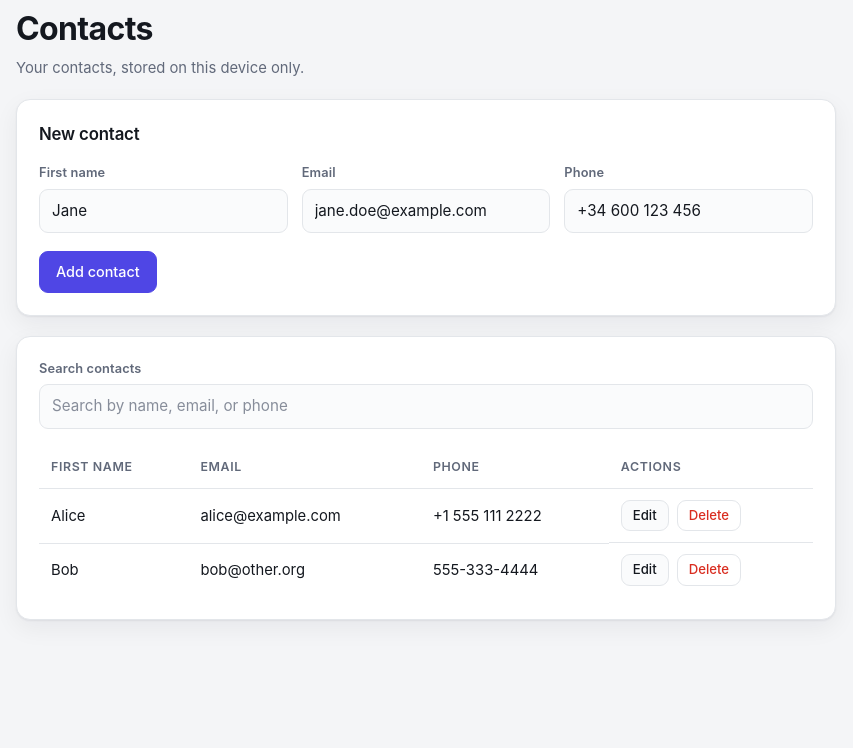
editing a contact › allows saving an edit that leaves the email unchanged
Click the button "Edit" in the row of "alice@example.com" at x=645, y=515, box [621,500,669,531]
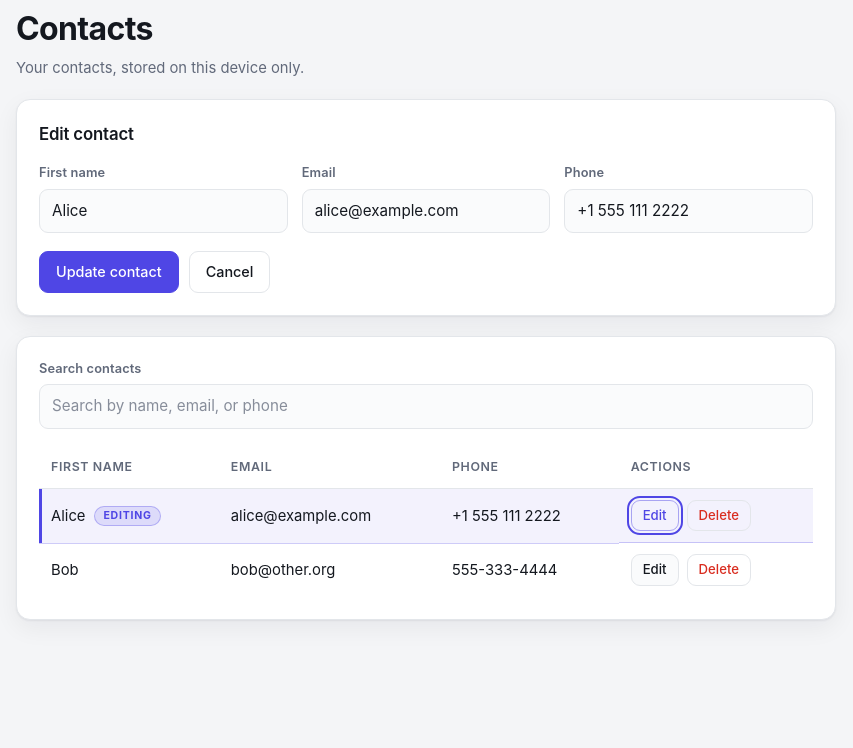
Replace the text in the field labelled "First name" with "Alicia" at x=163, y=211, box [39,189,288,233]
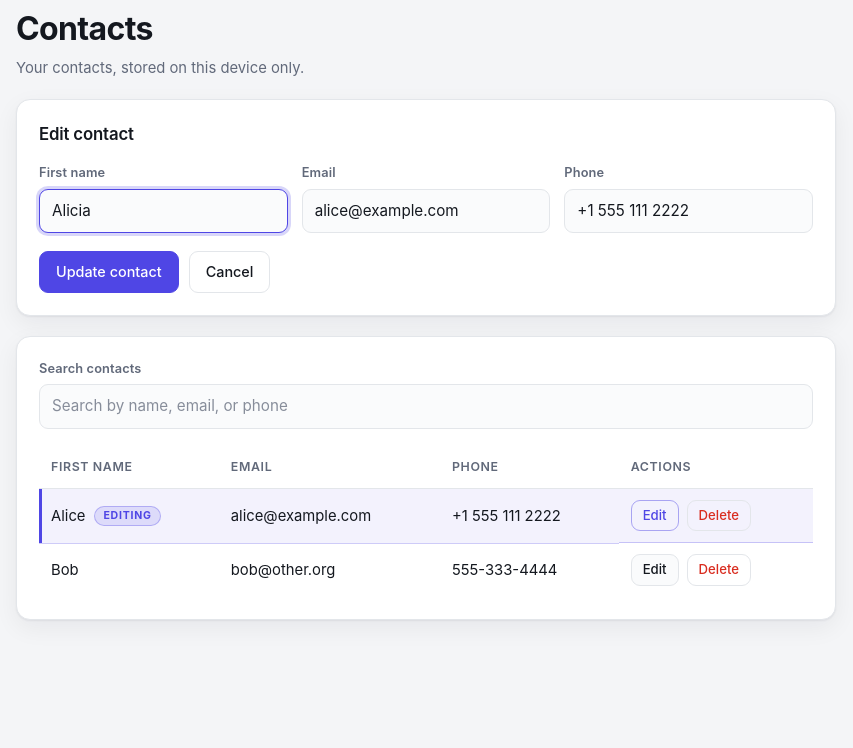
Click the button "Update contact" at x=109, y=272, box [39,251,179,293]
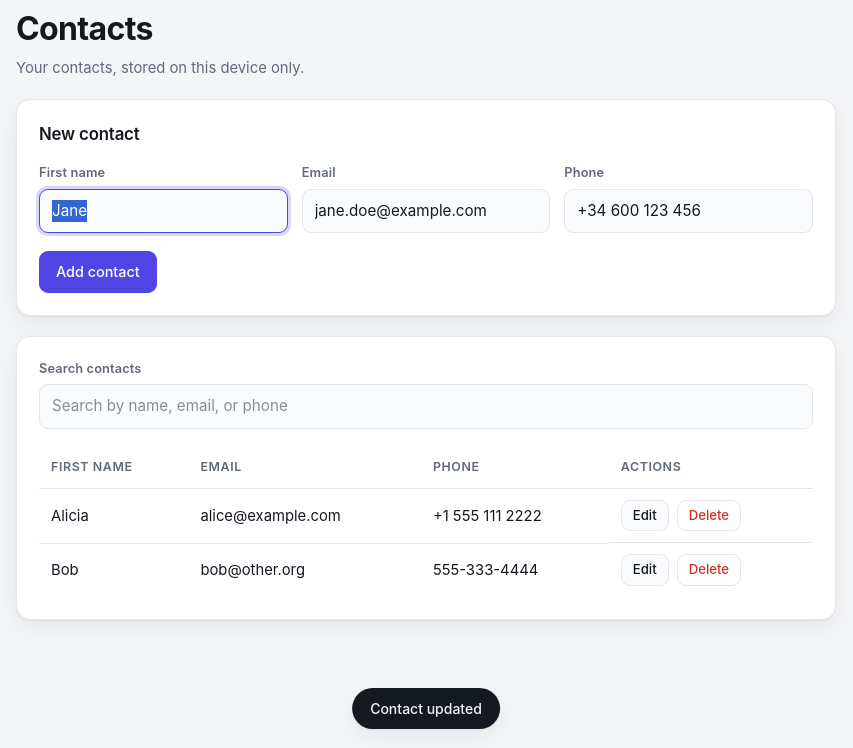
Result: the row "Alicia alice@example.com +1 555 111 2222 Edit Delete" is shown at [39,488,813,543]
